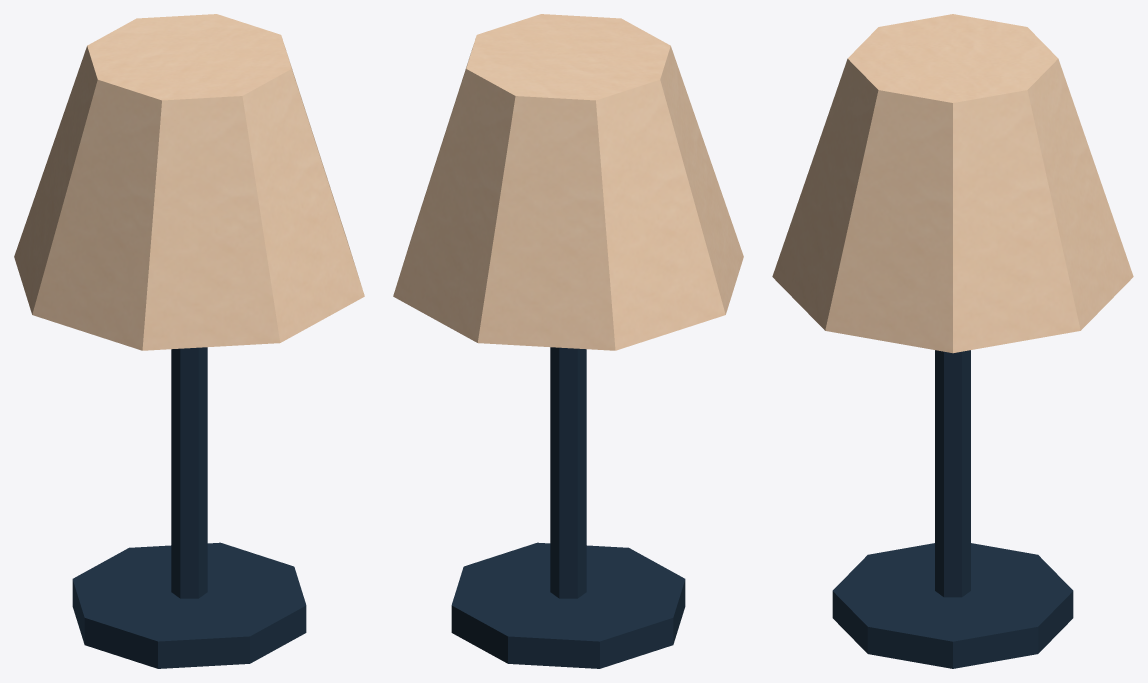
File: Lamp_Table.fbx
3 renders of one model, left to right at view 1: azimuth 30°, elevation 25°; view 2: azimuth 150°, elevation 25°; view 3: azimuth 270°, elevation 25°, orthographic.
Visible parts, largest first — view 1: Lamp_Table; view 2: Lamp_Table; view 3: Lamp_Table.
Part boxes in pixels (<box>): Lamp_Table: <box>14,14,364,668</box>; Lamp_Table: <box>393,14,743,668</box>; Lamp_Table: <box>772,14,1133,668</box>.
Bounding box in the file's own units: 0.24 × 0.41 × 0.24.
Materials: 1 (1 with a texture image).
